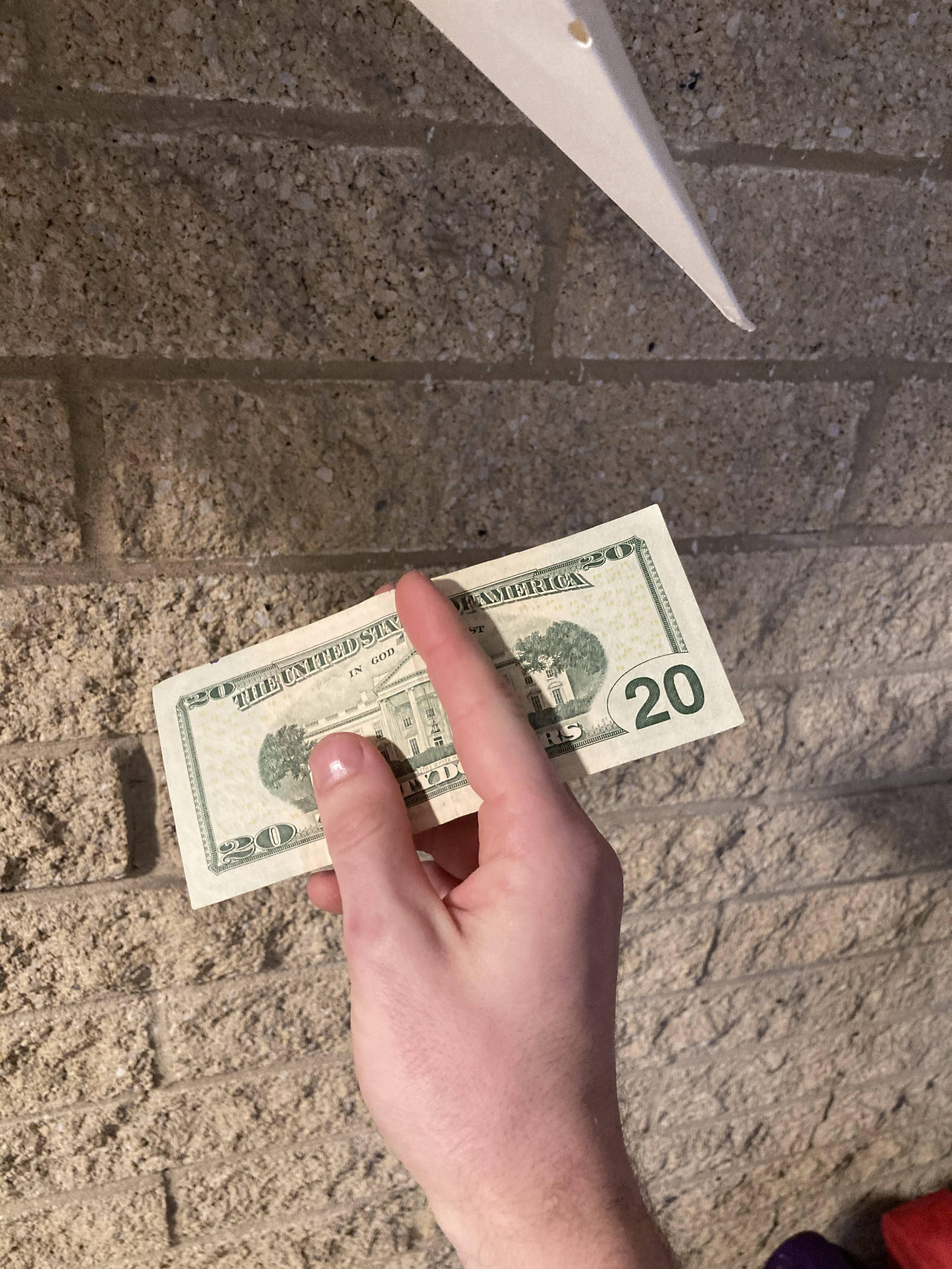twenty-back: (150, 501, 748, 913)
